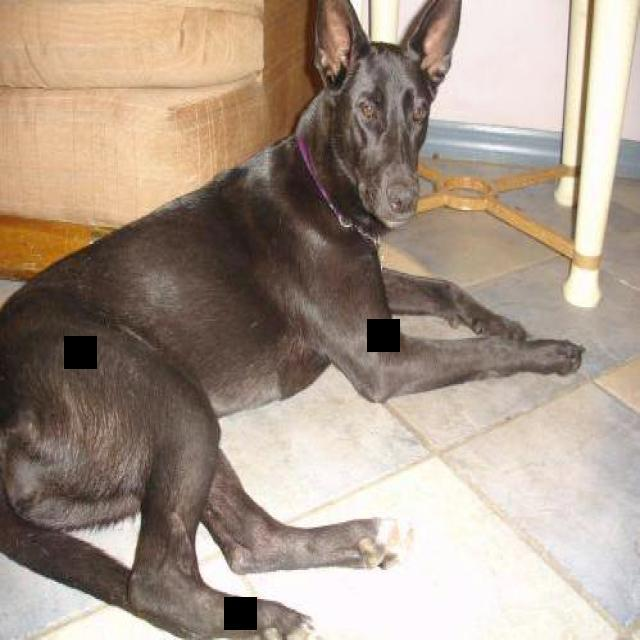adult_dog: (1, 2, 587, 639)
